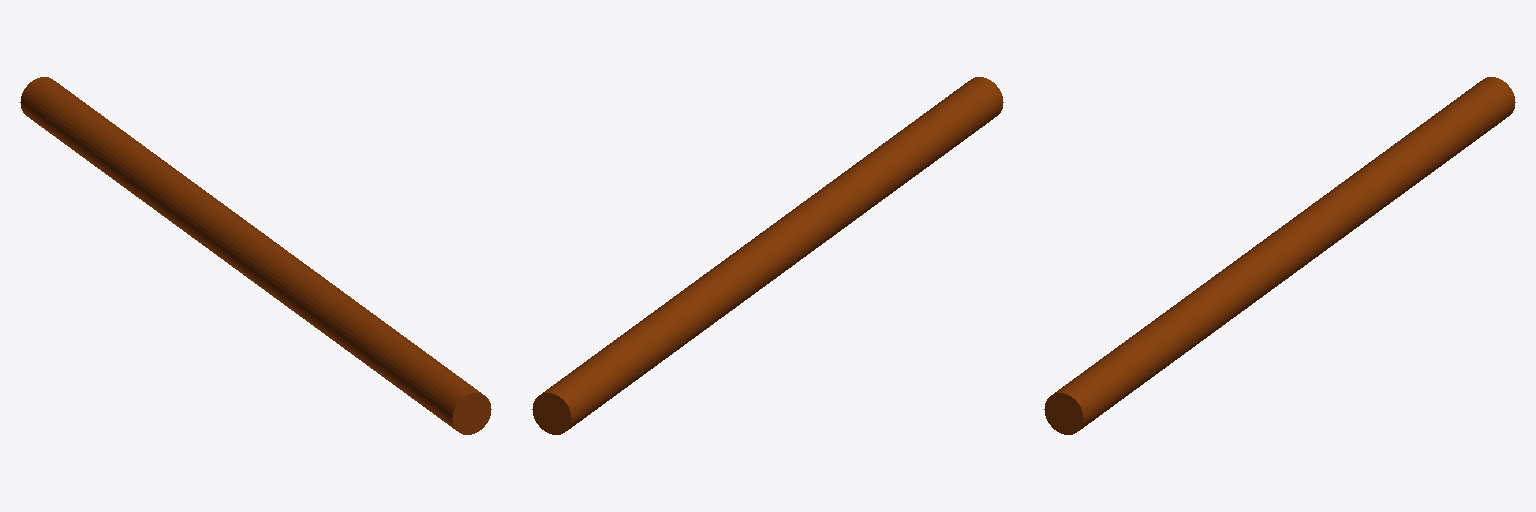
The robot description file, URDF, robot "cylinder":
<?xml version="1.0" ?>
<!-- =================================================================================== -->
<!-- |    This document was autogenerated by xacro from cylinder.xacro                 | -->
<!-- |    EDITING THIS FILE BY HAND IS NOT RECOMMENDED                                 | -->
<!-- =================================================================================== -->
<robot name="cylinder">
  <link name="world"/>
  <link name="base">
    <visual>
      <origin rpy="1.57079633 0 0" xyz="0 0 0"/>
      <geometry>
        <cylinder length="7.07106781185" radius="0.185"/>
      </geometry>
      <material name="cylinder_material">
        <color rgba="0.545 0.271 0.075 1.0"/>
        <texture filename="../textures/tree_bark.jpg"/>
      </material>
    </visual>
    <collision>
      <origin rpy="1.57079633 0 0" xyz="0 0 0"/>
      <geometry>
        <cylinder length="7.07106781185" radius="0.185"/>
      </geometry>
    </collision>
    <inertial>
      <origin rpy="0 0 0" xyz="0 0 0"/>
      <mass value="1"/>
      <inertia ixx="4.175222916648428" ixy="0.0" ixz="0.0" iyy="4.175222916648428" iyz="0.0" izz="24.999999999890573"/>
    </inertial>
  </link>
  <joint name="base_joint" type="fixed">
    <parent link="world"/>
    <child link="base"/>
    <origin rpy="0 0 0" xyz="0.0 0.0 0.0"/>
  </joint>
</robot>

--- Render facts (derived) ---
Views: 3 orthographic renders of the robot side by side, from view 1: azimuth 30°, elevation 25°; view 2: azimuth 150°, elevation 25°; view 3: azimuth 330°, elevation 25°.
Robot: cylinder — 2 links, 1 joints (1 fixed); root link world; default pose: every joint at zero.
Links seen in each view (by area): view 1: base; view 2: base; view 3: base.
Link boxes in pixels (x1=…): base: x1=20, y1=77, x2=491, y2=434; base: x1=532, y1=77, x2=1003, y2=434; base: x1=1044, y1=77, x2=1515, y2=434.
Size in the robot's own frame: 0.37 by 7.07 by 0.37 metres.
Geometry: primitives only (box / cylinder / sphere), no mesh files.
